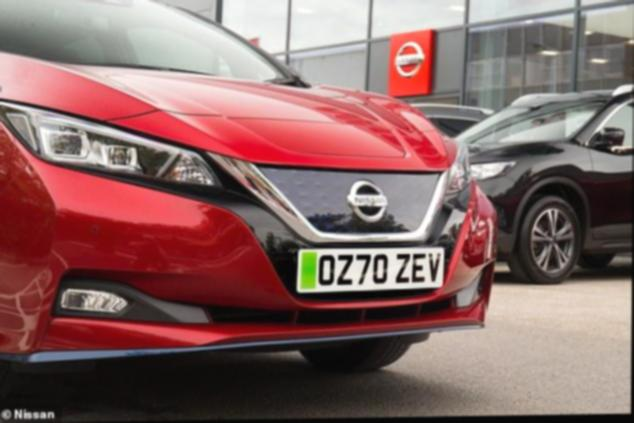License_Plate: (291, 240, 449, 301)
